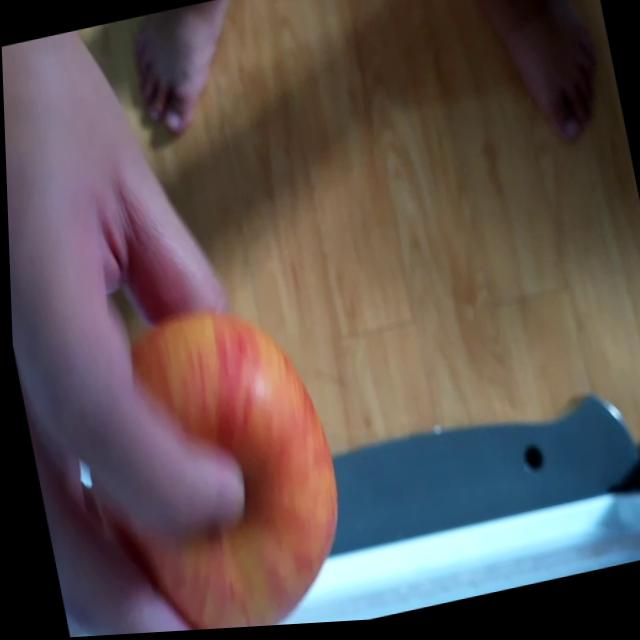apple: (65, 287, 359, 637)
